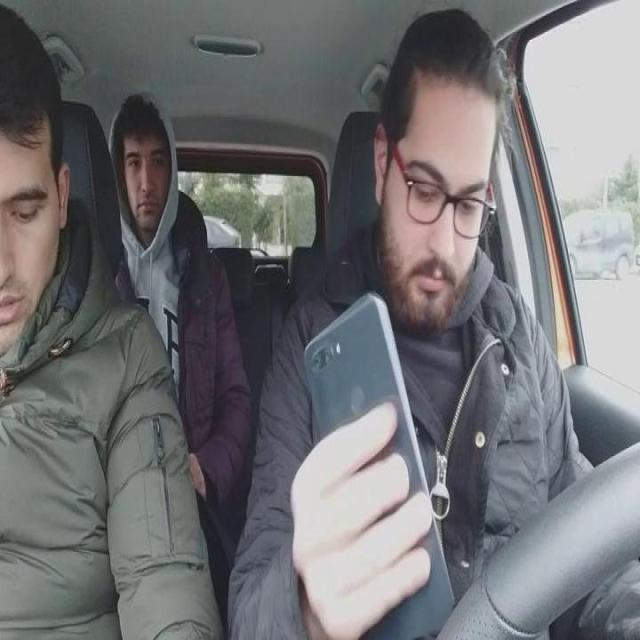phone: (301, 291, 462, 640)
